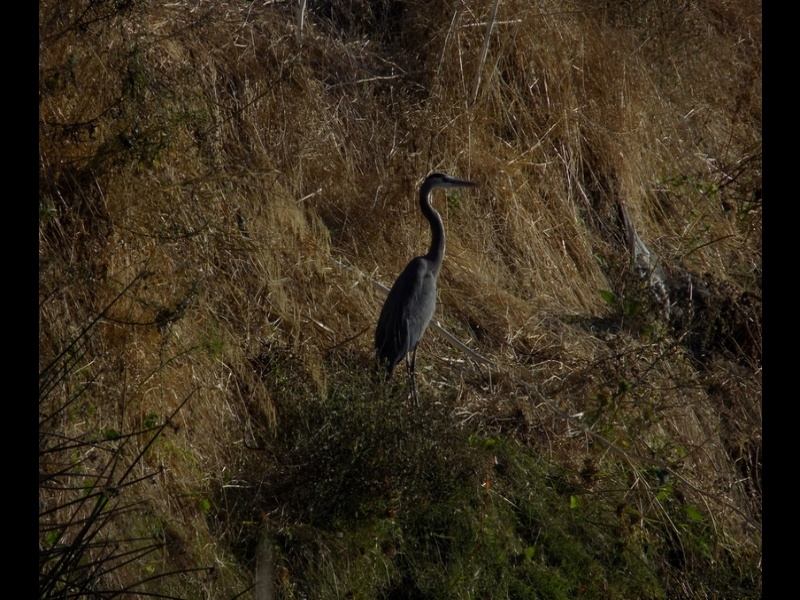heron: (371, 172, 482, 401)
